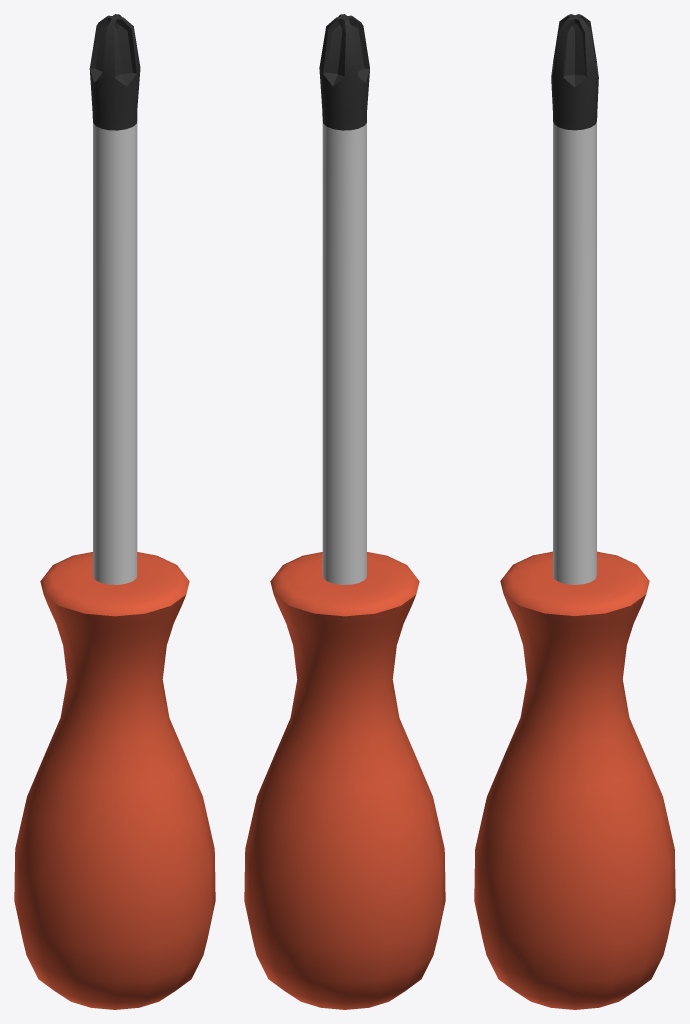
Rendered from Screwdriver_Philips v01.fbx.
3 renders of one model, left to right at view 1: azimuth 30°, elevation 25°; view 2: azimuth 150°, elevation 25°; view 3: azimuth 270°, elevation 25°, orthographic.
Visible parts, largest first — view 1: Screwdriver_Philips; view 2: Screwdriver_Philips; view 3: Screwdriver_Philips.
Boxes of the visible parts, left/top/right/bottom form: Screwdriver_Philips: left=14, top=14, right=215, bottom=1009; Screwdriver_Philips: left=244, top=14, right=445, bottom=1009; Screwdriver_Philips: left=474, top=14, right=675, bottom=1009.
Size of the model in its own units: 21.08 by 114 by 21.2.
